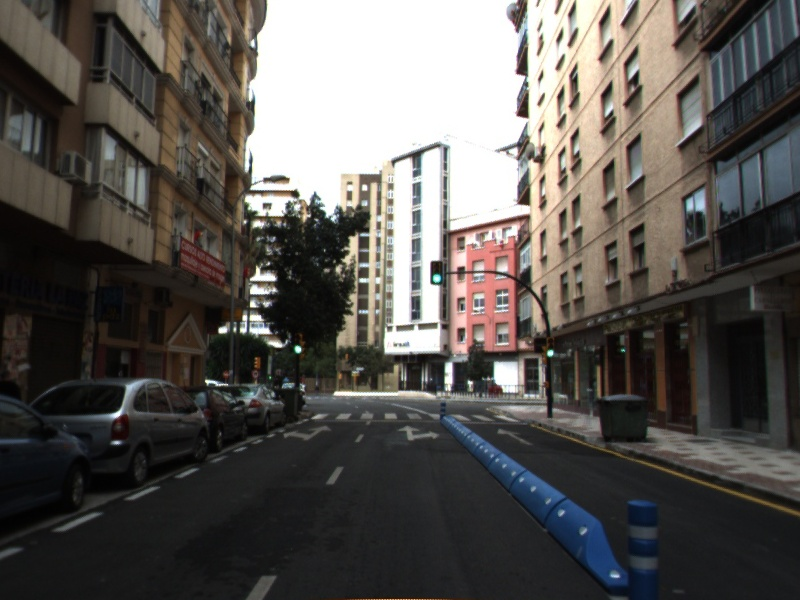STRAIGHT: (495, 426, 536, 448)
STRAIGHT_LEFT: (281, 423, 334, 443)
STRAIGHT_RIGHT: (394, 423, 443, 443)
